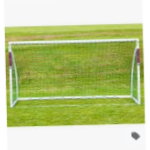goals: (6, 38, 143, 109)
